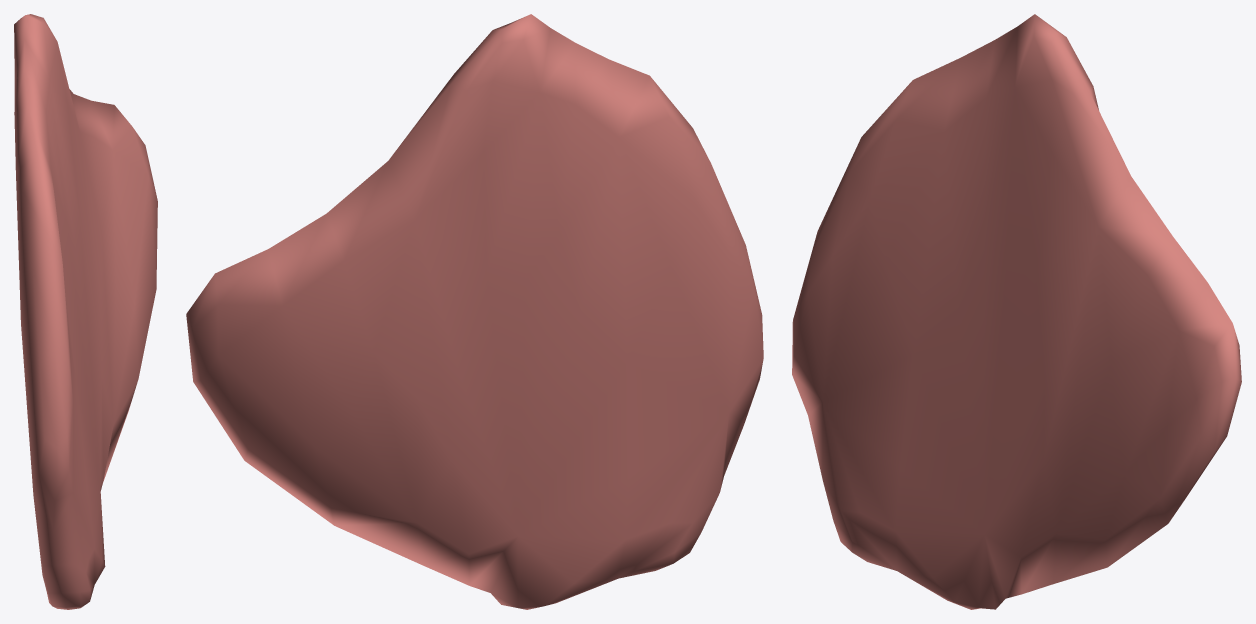
3 views of the same model, side by side, from view 1: azimuth 30°, elevation 25°; view 2: azimuth 150°, elevation 25°; view 3: azimuth 270°, elevation 25° (orthographic). The views are drawn at different scales.
Parts seen in each view (by area): view 1: ZA_e3251dc83d8c0c5f; view 2: ZA_e3251dc83d8c0c5f; view 3: ZA_e3251dc83d8c0c5f.
Boxes of the visible parts, left/top/right/bottom form: ZA_e3251dc83d8c0c5f: left=14, top=14, right=157, bottom=609; ZA_e3251dc83d8c0c5f: left=186, top=14, right=763, bottom=609; ZA_e3251dc83d8c0c5f: left=792, top=14, right=1241, bottom=609.
Bounding box in the file's own units: 0.00377 × 0.00641 × 0.00454.
